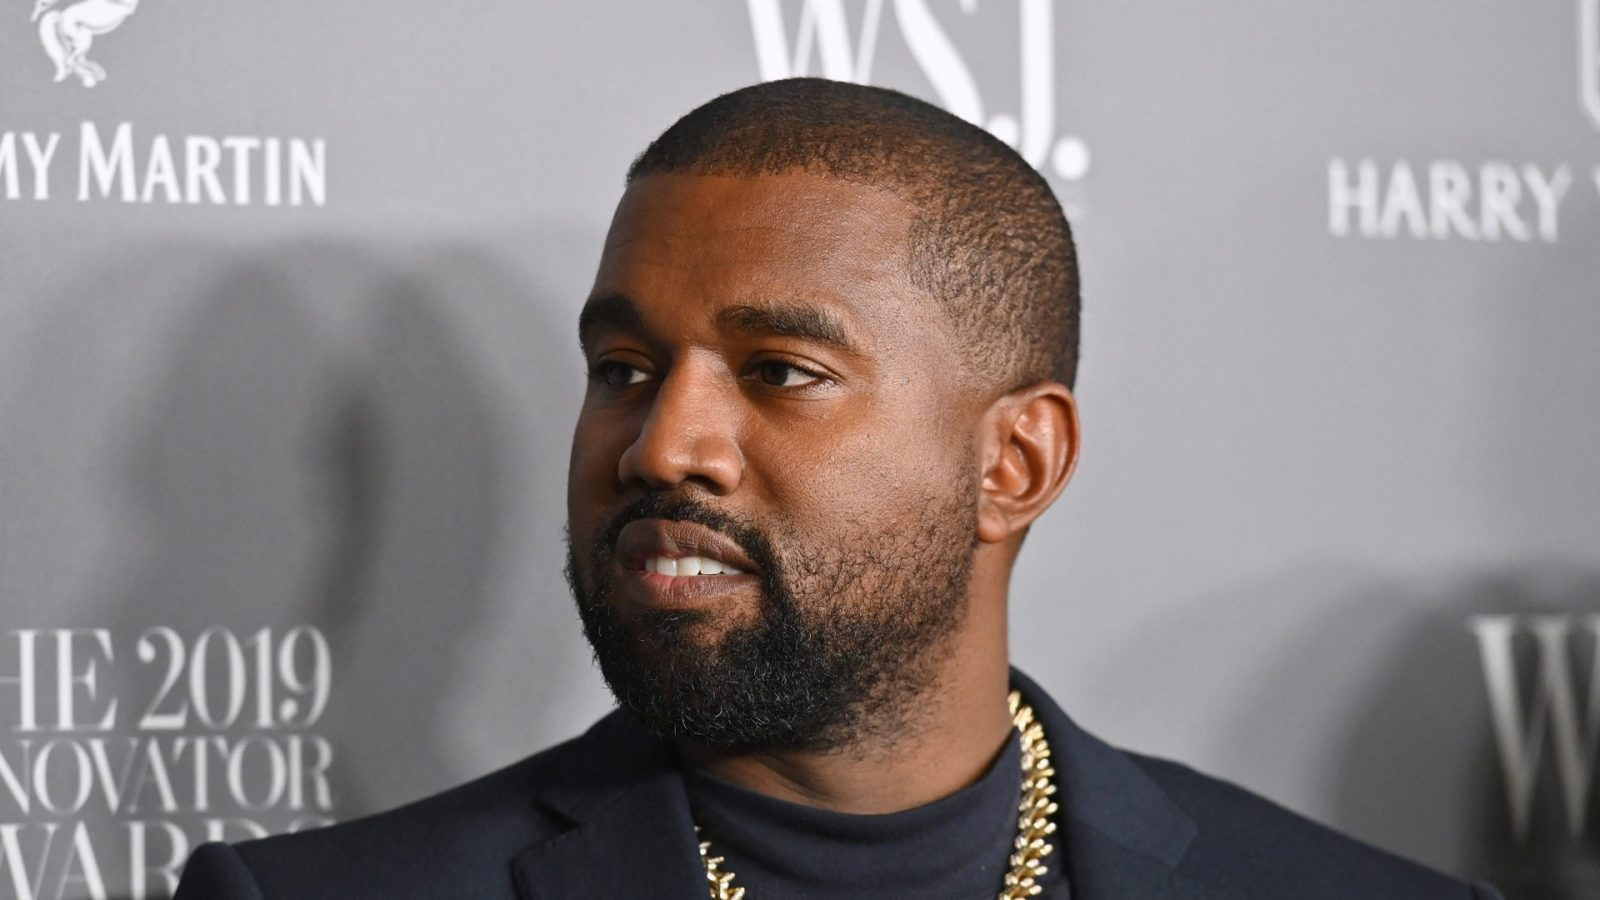NoMask: (569, 282, 911, 746)
